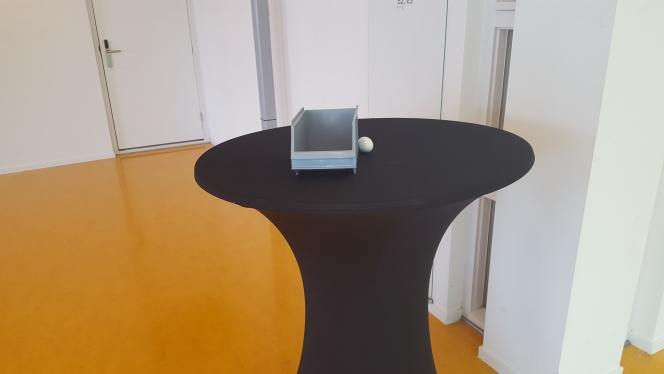egg: (358, 136, 373, 152)
tray_front: (290, 122, 356, 172)
